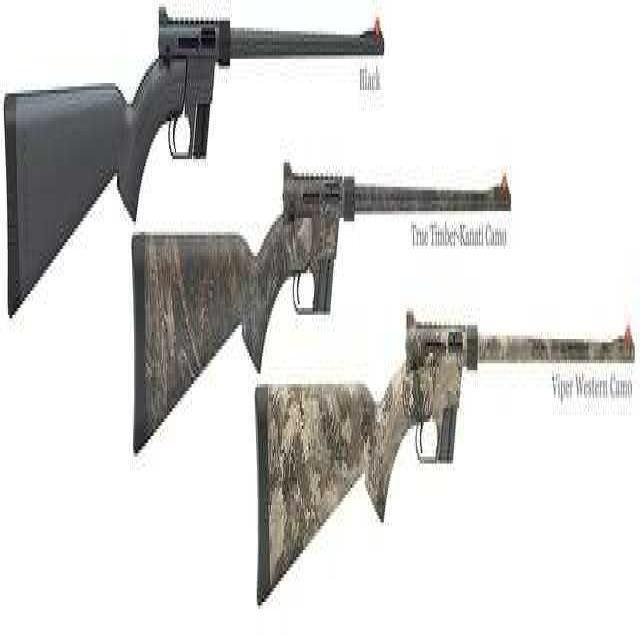Rifle: (236, 260, 634, 634), (111, 134, 528, 453), (0, 0, 415, 298)
